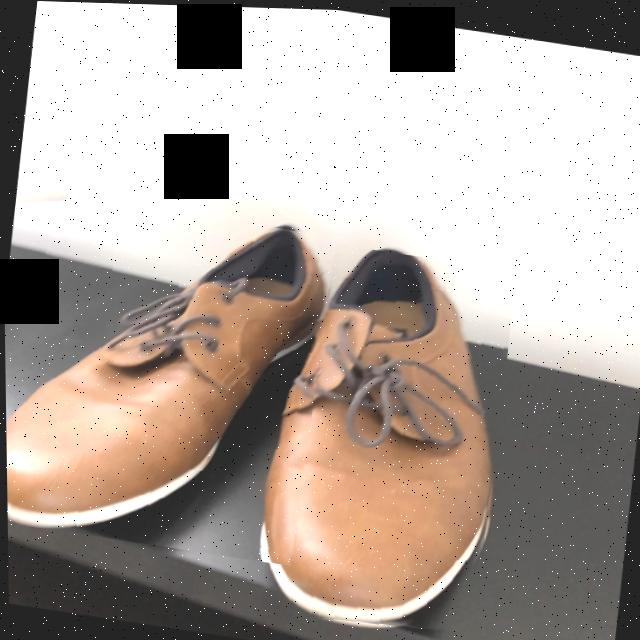shoe: (5, 227, 327, 530), (265, 248, 489, 622)
